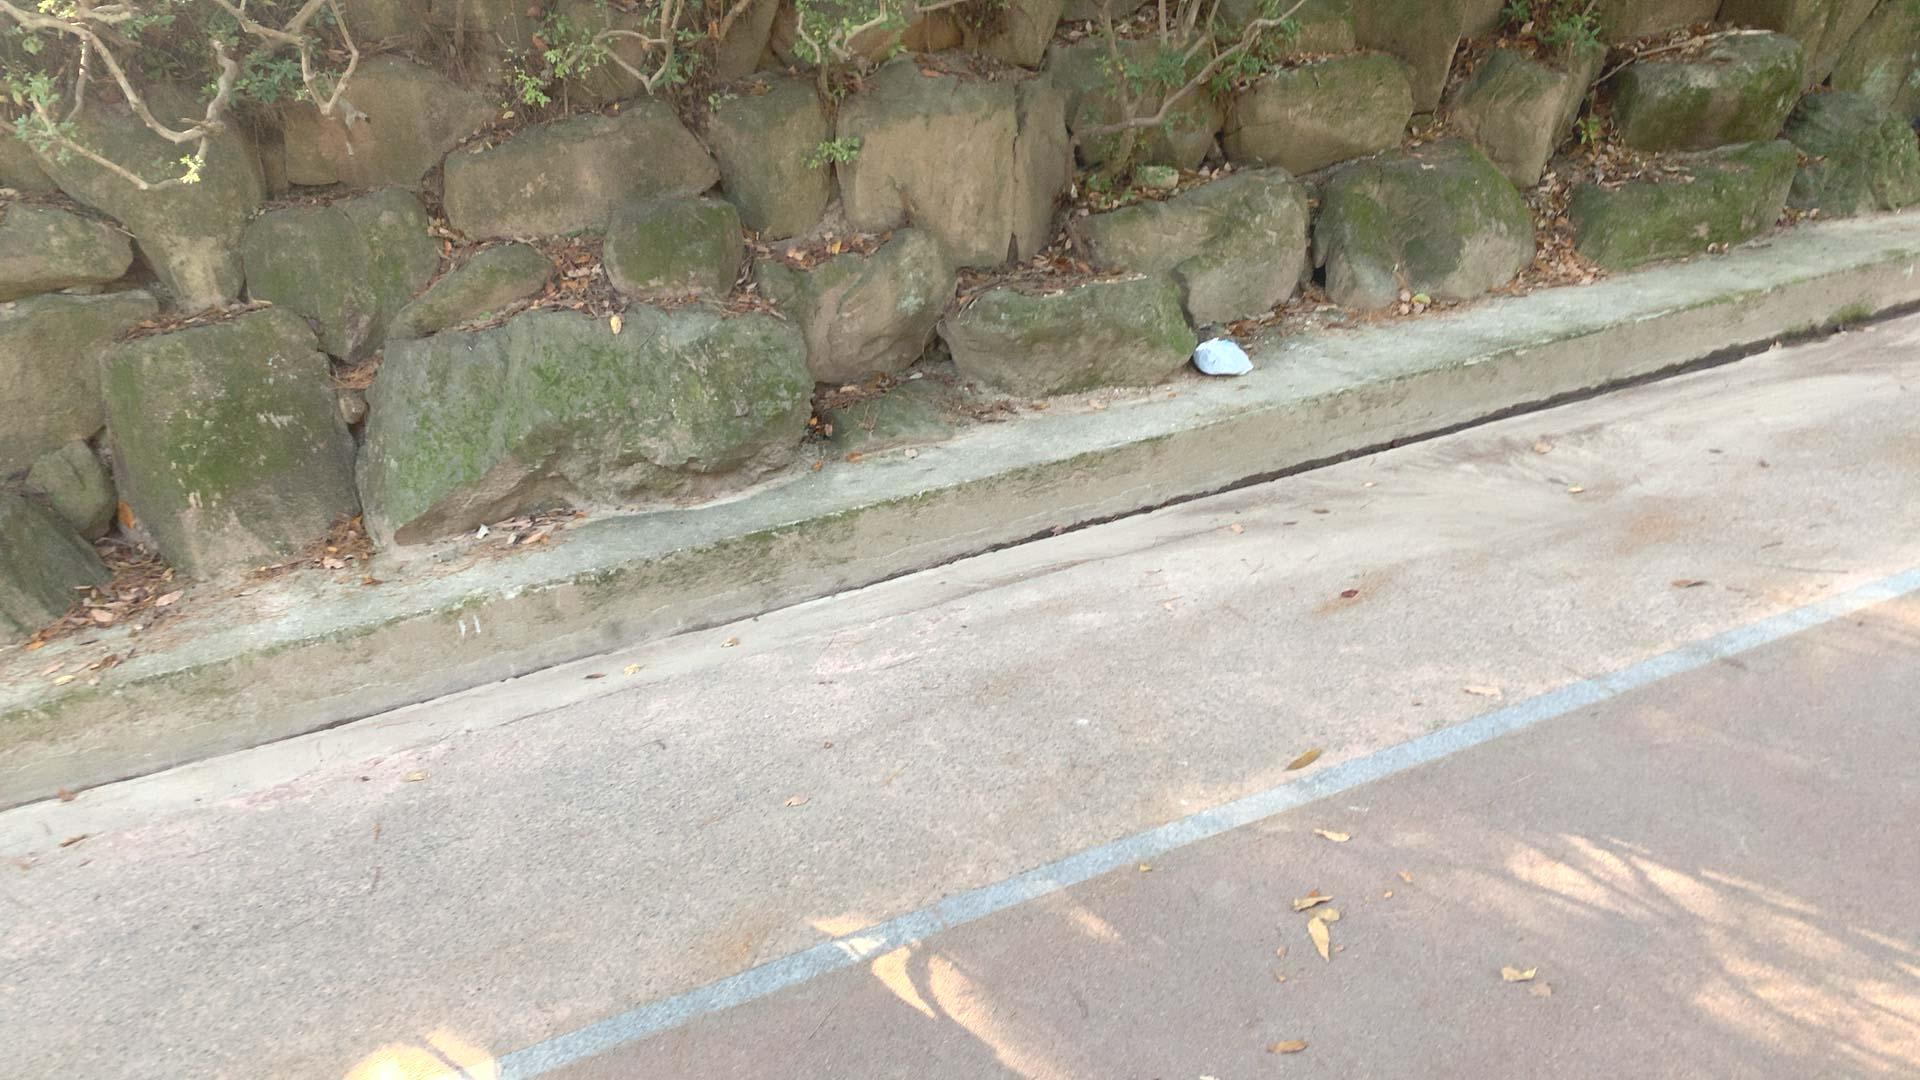white_bag: (1185, 334, 1262, 386)
